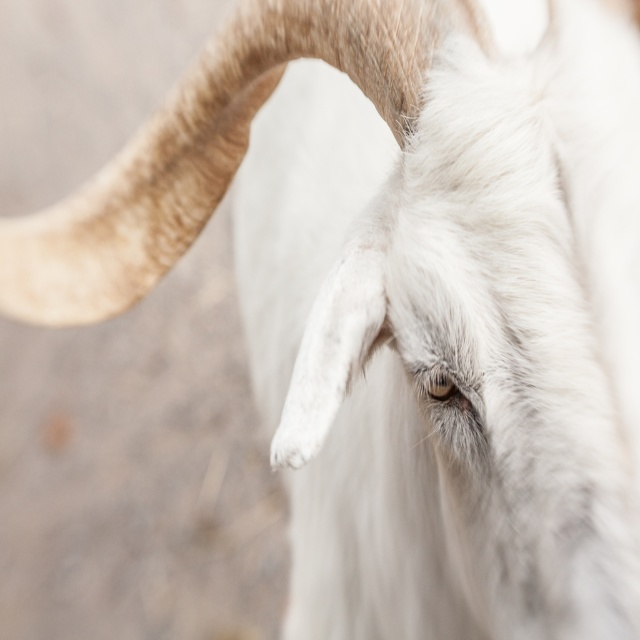Goat: (0, 1, 640, 639)
